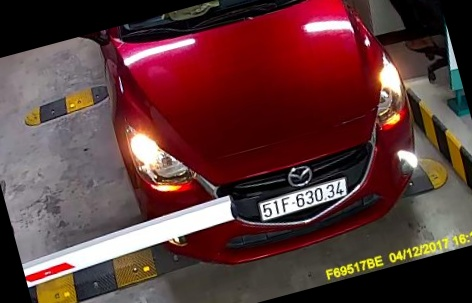plate: (247, 174, 354, 224)
